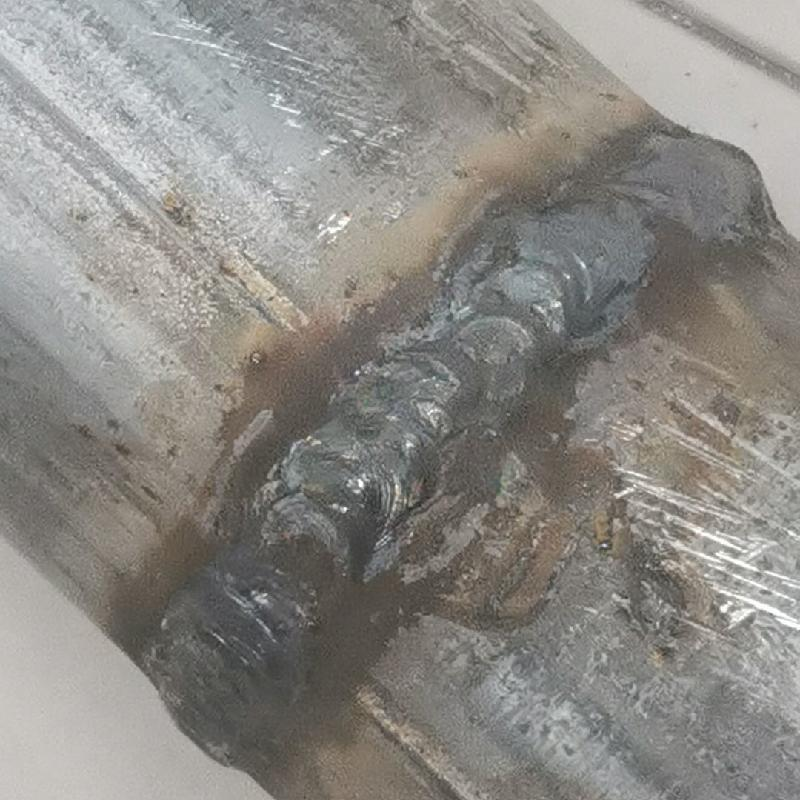good: (160, 90, 768, 748)
